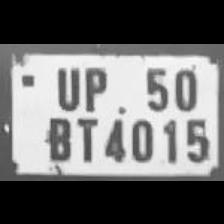0: (168, 62, 200, 110), (125, 110, 154, 162)
1: (156, 112, 180, 164)
4: (99, 110, 127, 162)
5: (140, 62, 170, 110), (180, 114, 210, 162)
B: (41, 110, 72, 162)
P: (78, 62, 108, 110)
T: (72, 111, 98, 160)
U: (50, 61, 80, 108)
